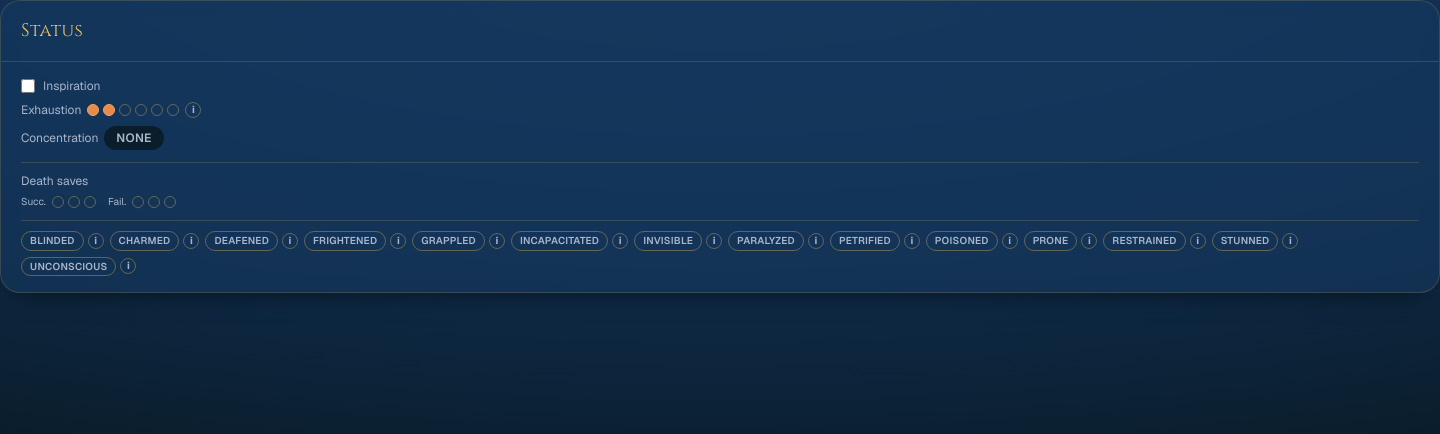
StatusPanel › exhaustion › the tooltip explains the 2024 effects of the current level
Step 1. Hover over the button named "About Exhaustion 2" → [193, 110], box 185,102 -> 201,118
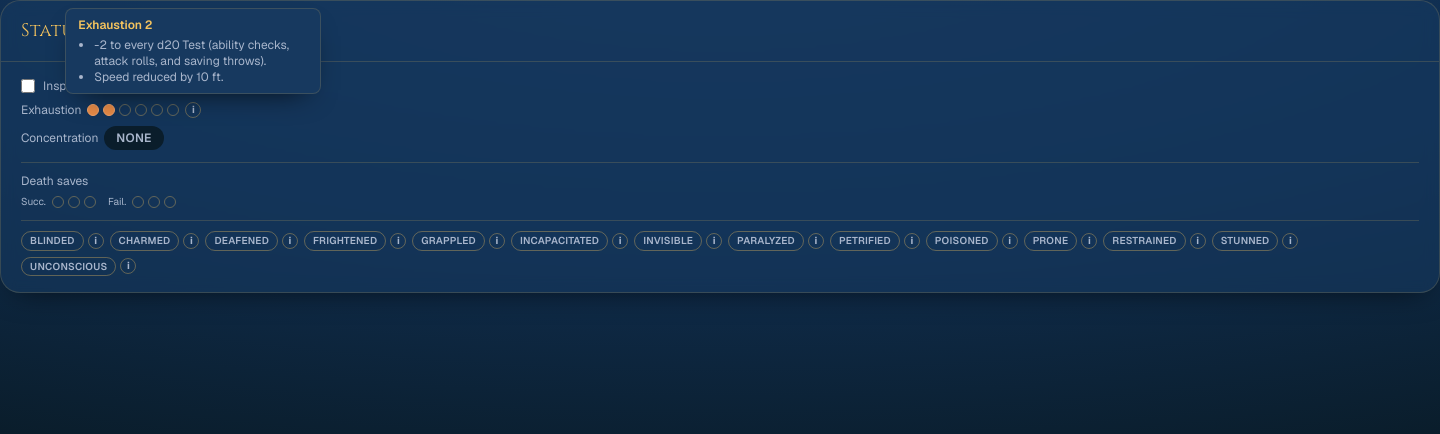
Expected: the tooltip shows "-2 to every d20 Test", 94,37 -> 289,69
Expected: the tooltip shows "Speed reduced by 10 ft.", 94,69 -> 223,85
